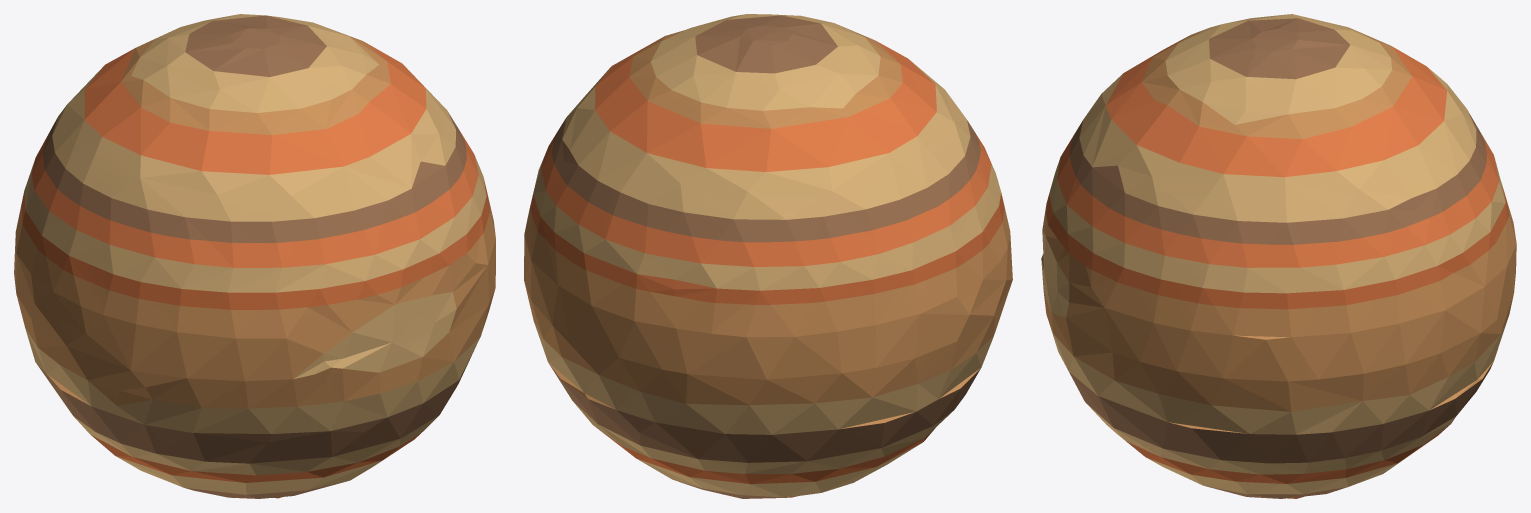
The model's file is Sand_Planet_01.fbx.
3 renders of one model, left to right at view 1: azimuth 30°, elevation 25°; view 2: azimuth 150°, elevation 25°; view 3: azimuth 270°, elevation 25°, orthographic.
Visible parts, largest first — view 1: Sand_Planet_01; view 2: Sand_Planet_01; view 3: Sand_Planet_01.
Part boxes in pixels (<box>): Sand_Planet_01: <box>14,14,495,498</box>; Sand_Planet_01: <box>524,14,1012,498</box>; Sand_Planet_01: <box>1041,14,1516,498</box>.
Bounding box in the file's own units: 18225 × 18139 × 17901.
Materials: 1 (1 with a texture image).
